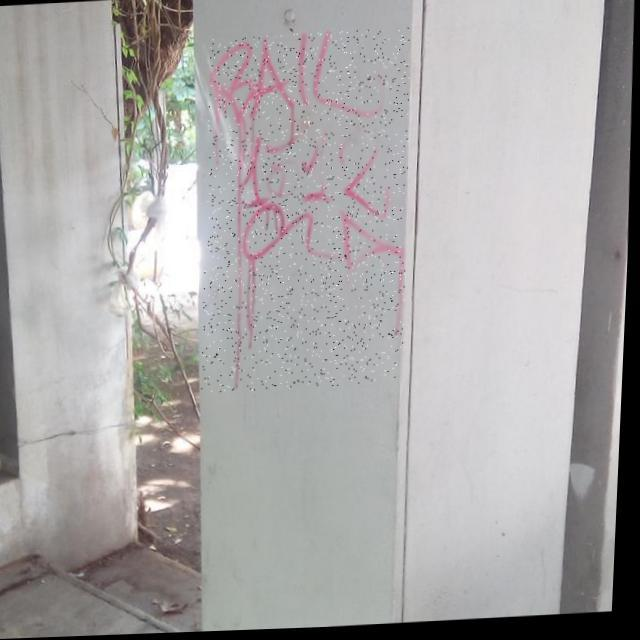-: (198, 31, 418, 394)
